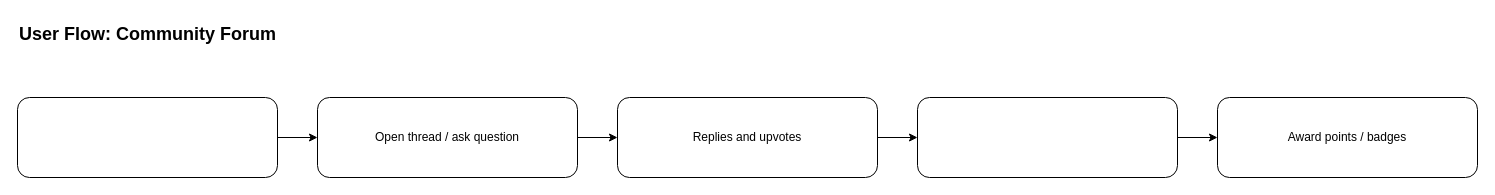
The diagram is 1495 pixels wide and 195 high, and some of its shapes have lost their labels. Here are the shapes that lost their labels. From the top down, the centre of each, then its label:
At point (147, 137): "Browse topics / search".
At point (1047, 137): "Mark solved / accepted answer".
